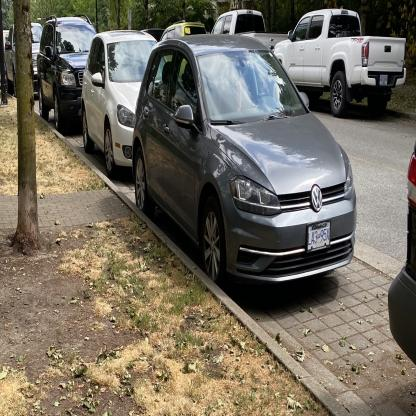License-Plate: (302, 214, 335, 260), (378, 70, 391, 92)
